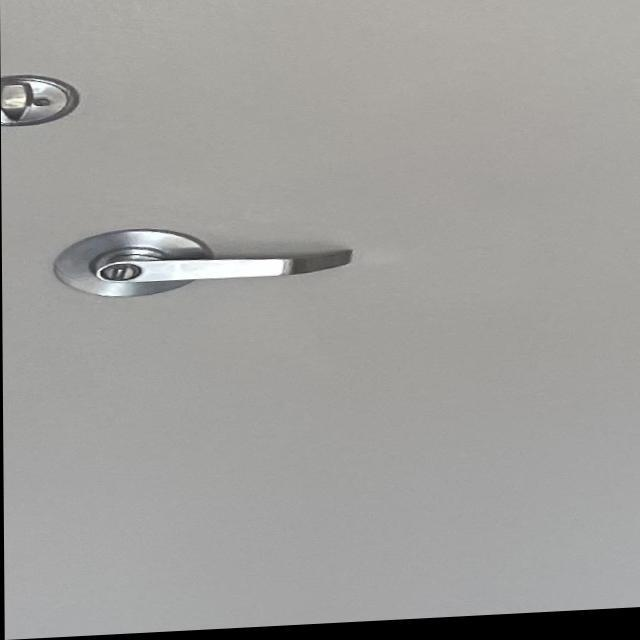door_handle: (66, 233, 380, 309)
